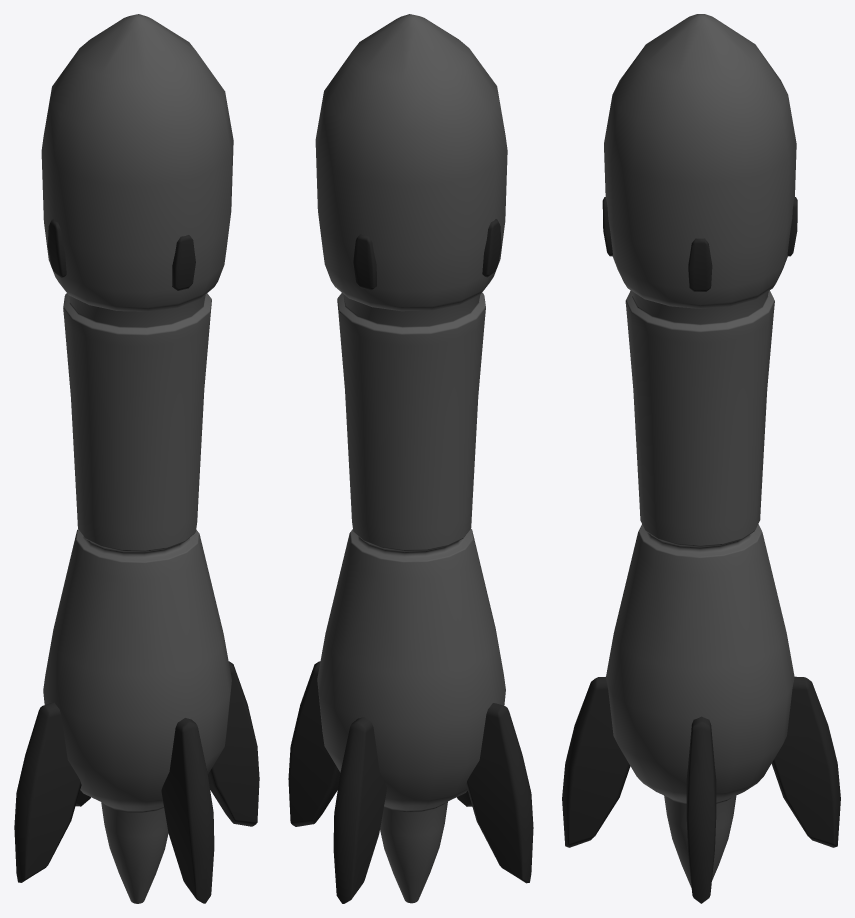
Rendered from Rocket1.glb.
3 views of the same model, side by side, from view 1: azimuth 30°, elevation 25°; view 2: azimuth 150°, elevation 25°; view 3: azimuth 270°, elevation 25° (orthographic).
Visible parts, largest first — view 1: Rocket_03; view 2: Rocket_03; view 3: Rocket_03.
Part boxes in pixels (left/top/right/bottom): Rocket_03: left=14, top=14, right=259, bottom=903; Rocket_03: left=288, top=14, right=533, bottom=903; Rocket_03: left=562, top=14, right=840, bottom=903.
Bounding box in the file's own units: 0.6482 × 2.25 × 0.6482.
1 material, 1 textured.
